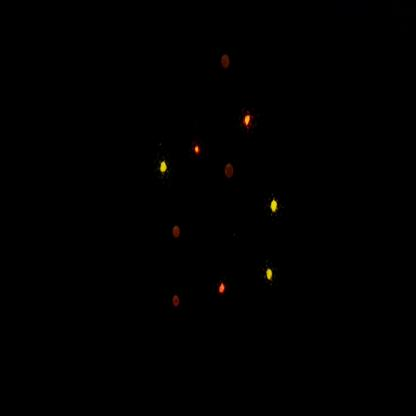PS: (165, 212, 190, 251), (165, 282, 186, 320), (217, 45, 234, 78), (223, 154, 239, 189)
PVC: (235, 100, 259, 141), (213, 272, 236, 309), (258, 257, 280, 292), (154, 153, 177, 184), (186, 132, 206, 166), (266, 189, 285, 222)
